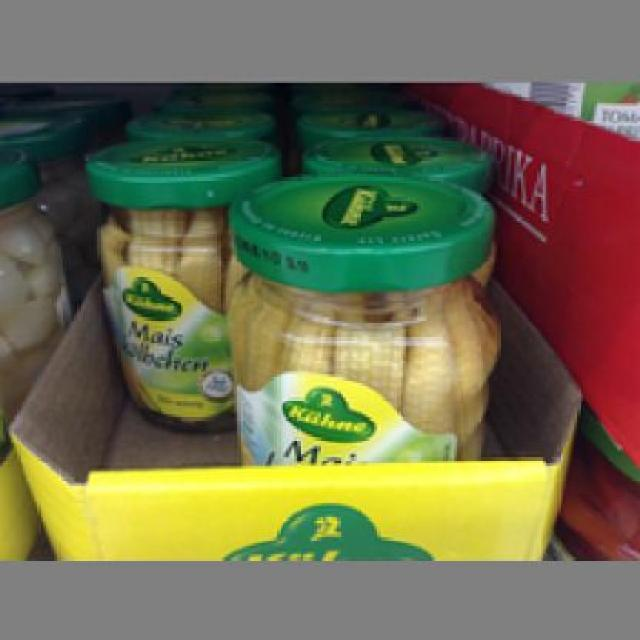Corn: (232, 170, 492, 464), (85, 137, 278, 423)
